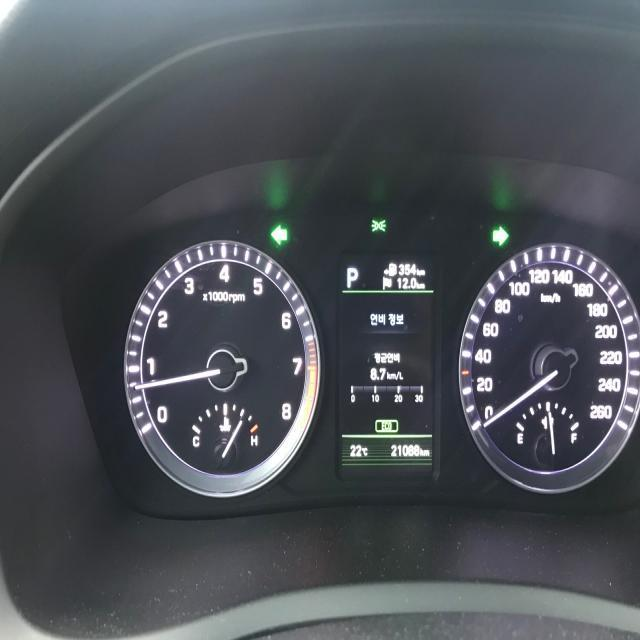SideLamp: (369, 217, 386, 232)
